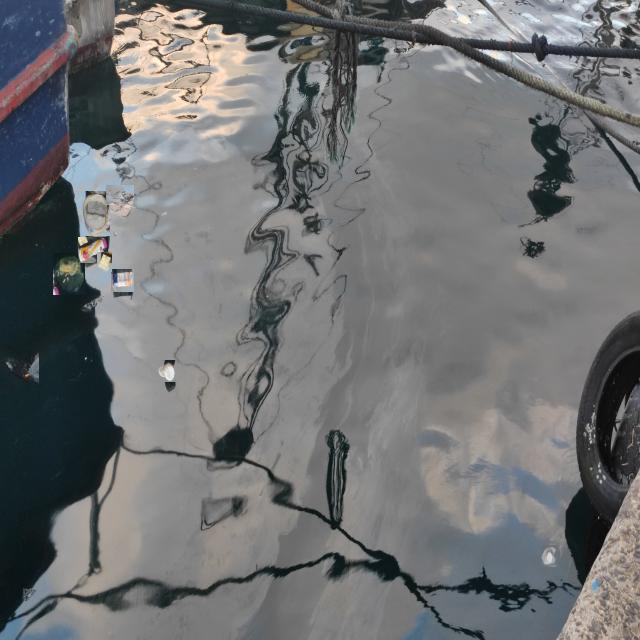Juice box: (111, 269, 134, 292)
Plastic bag: (0, 346, 39, 385), (53, 253, 85, 296), (80, 293, 106, 315), (106, 186, 134, 206)
Plastic bottle: (82, 191, 110, 236), (78, 237, 108, 263), (158, 360, 176, 382)
Plastic cup: (541, 545, 557, 567)
Plastic packaging: (97, 252, 112, 272)
